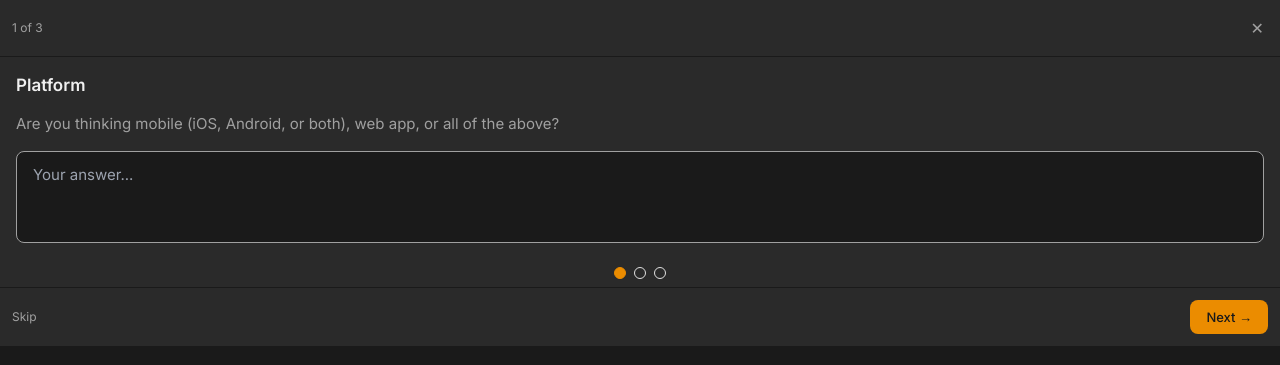
Test: QuestionCardStack › returns to editing from the review screen when Edit is clicked
This screenshot has width=1280, height=365.
Step 1. Click the button named "question 3" → (660, 273), box [654, 267, 666, 279]
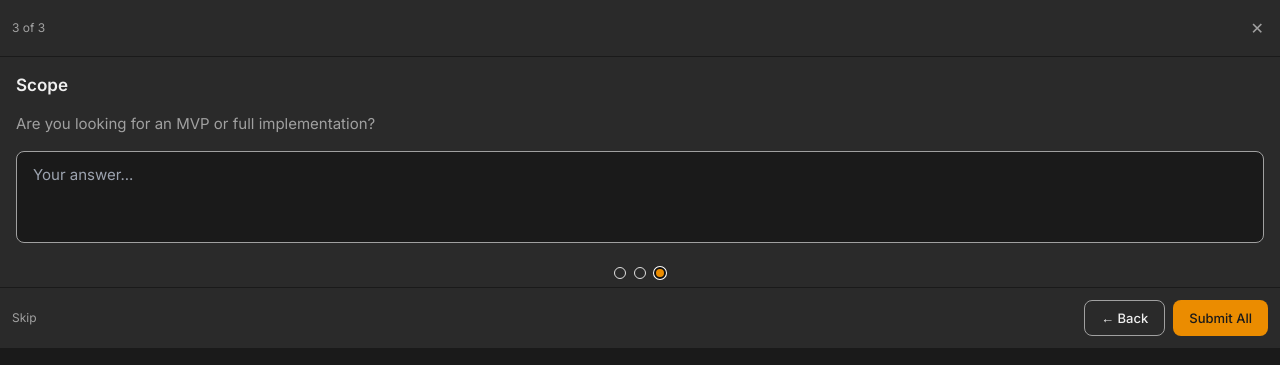
Step 2. Click the button with aria-label "submit all answers" → (1221, 318), box [1173, 300, 1268, 336]
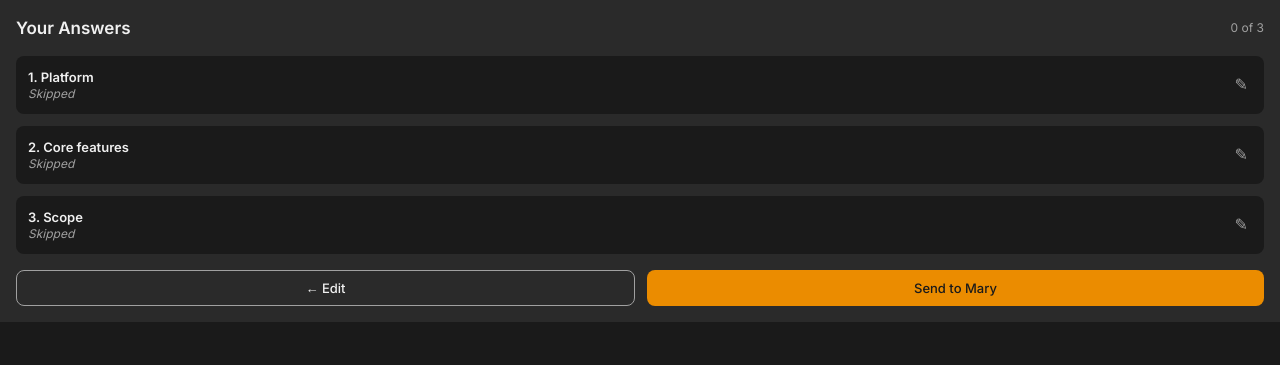
Expected: the element with test id "question-review" is shown
Step 3. Click the button with aria-label "edit answers" → (326, 288), box [16, 270, 635, 306]
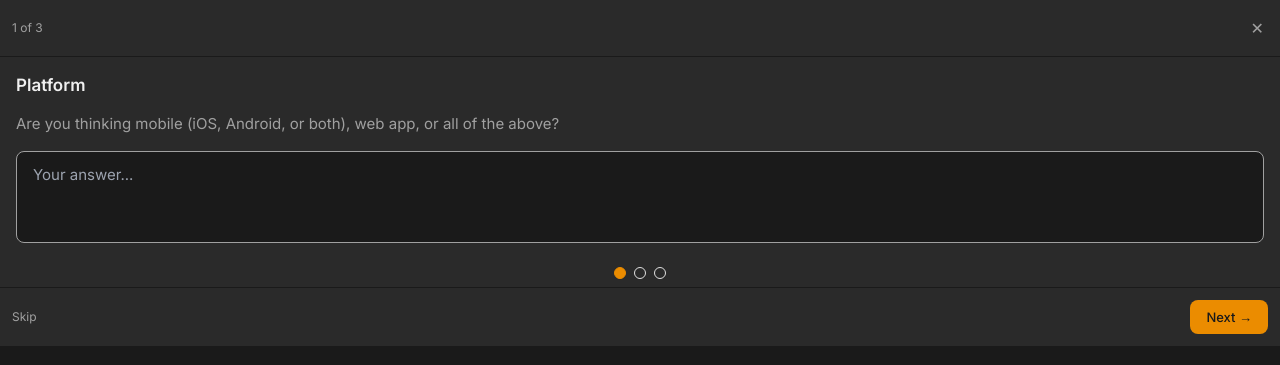
Expected: the text "1 of 3" is shown, [12, 20, 43, 36]
